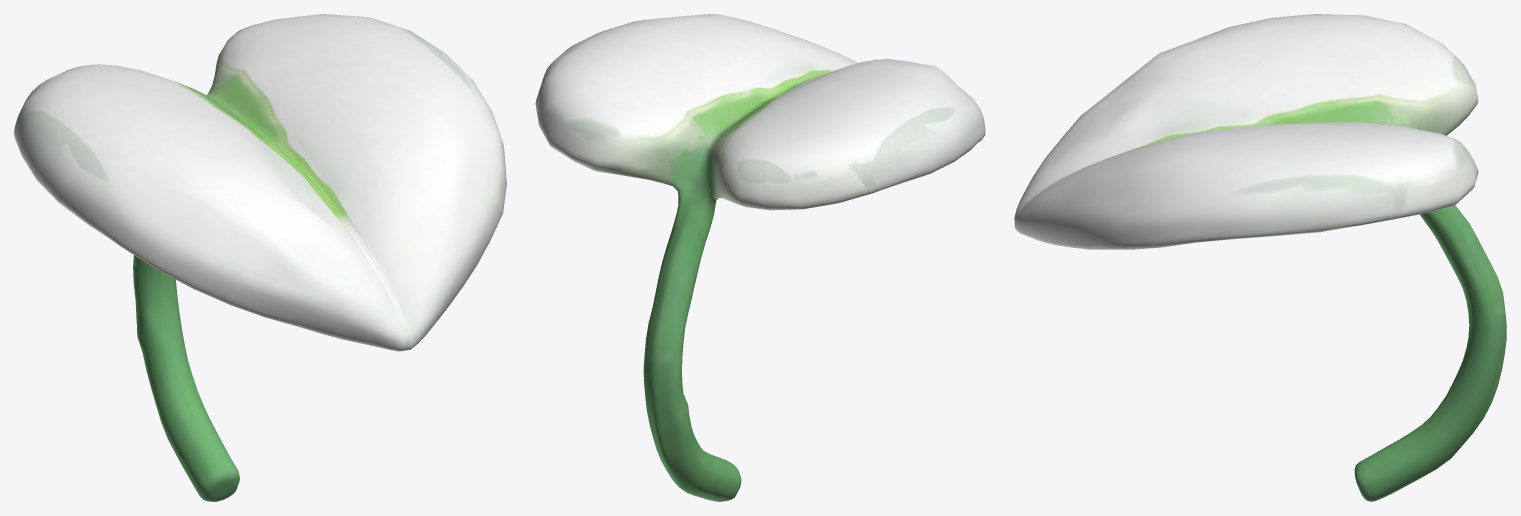
File: pothos_whitegreen_29_v1.glb
3 renders of one model, left to right at view 1: azimuth 30°, elevation 25°; view 2: azimuth 150°, elevation 25°; view 3: azimuth 270°, elevation 25°, orthographic. The views are drawn at different scales.
Bounding box in the file's own units: 1.82 × 1.85 × 2.
Materials: 1 (1 with a texture image).
